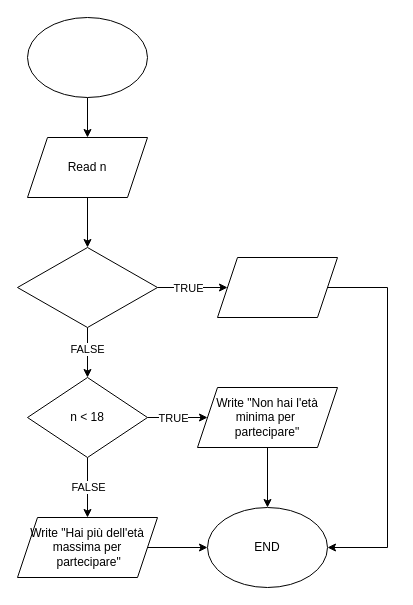
This 413x605 diagram has some shape labels left out. The shapes that lost their labels are listed below. From the top down, each one's centre as x and y in pixels, then its label:
(87,57): START
(87,287): 18 <= n AND n <= 65
(277,287): Write "Puoi partecipare all'attività"
